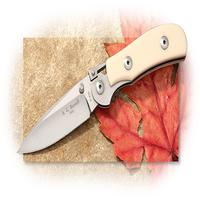knife: (14, 25, 190, 156)
